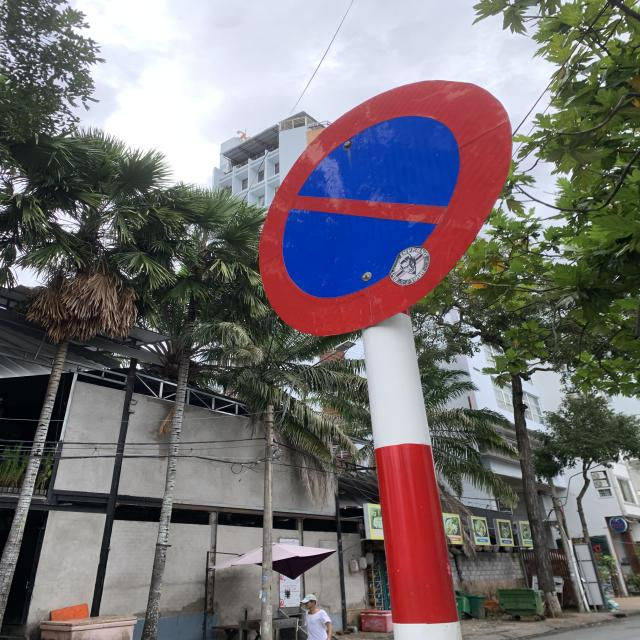Cam_Dau_Xe: (256, 78, 511, 338)
